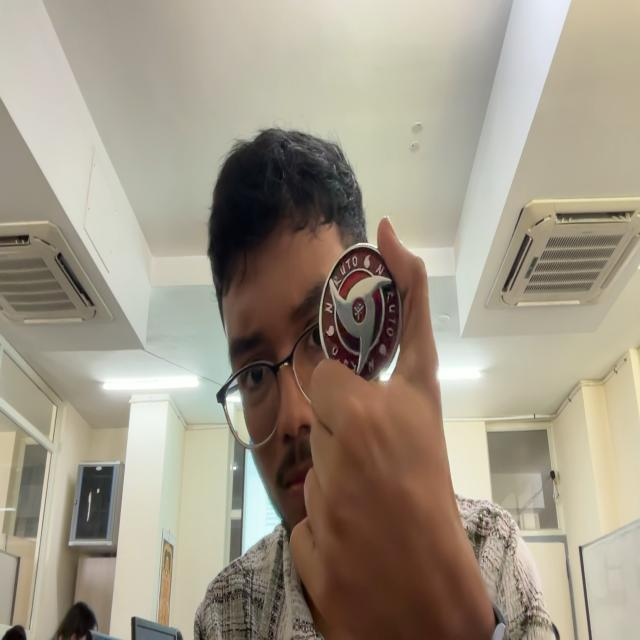dangerous: (318, 244, 401, 380)
